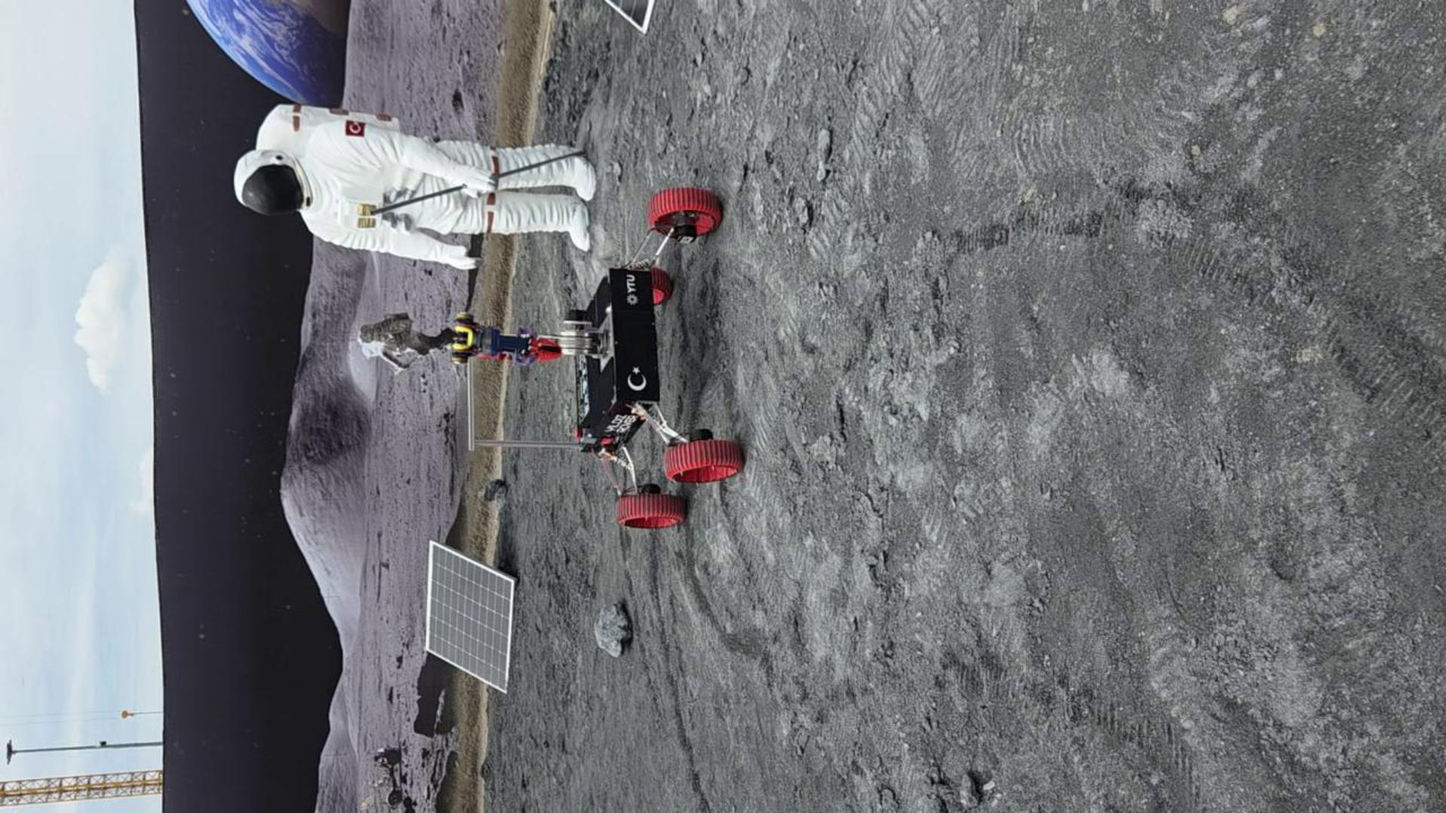rock: (594, 602, 631, 656)
